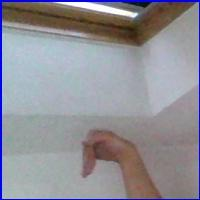del: (74, 116, 146, 188)
